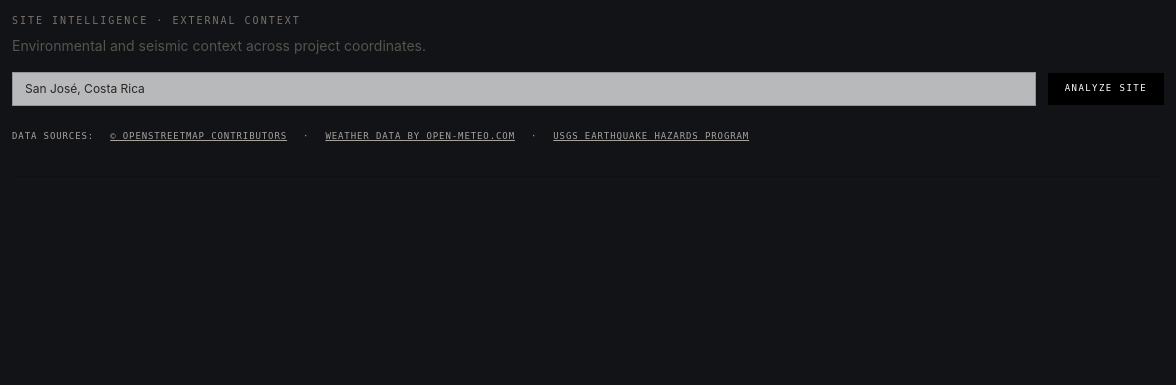
Test: ExternalContextPanel UI Component › handles partial failure: seismic fails but weather succeeds
This screenshot has width=1176, height=385.
Click the button with test id "site-intelligence-analyze" at (1106, 89), box top-left (1048, 73), bottom-right (1164, 105)
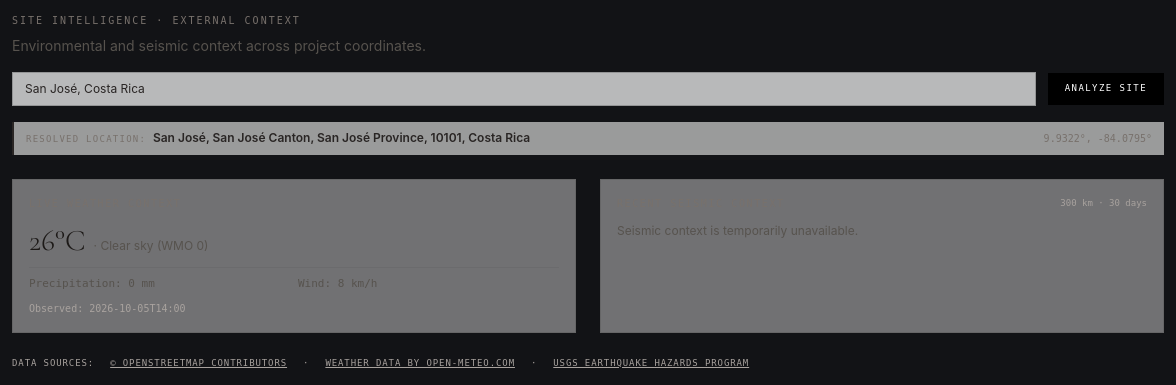
Expected: the element with test id "site-intelligence-location" is shown, top-left (12, 122), bottom-right (1164, 155)
Expected: the text "Seismic context is temporarily unavailable." is shown, top-left (617, 223), bottom-right (858, 238)
Expected: the element with test id "site-intelligence-weather" is shown, top-left (12, 179), bottom-right (576, 332)
